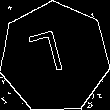L_S: (33, 29, 76, 86)
